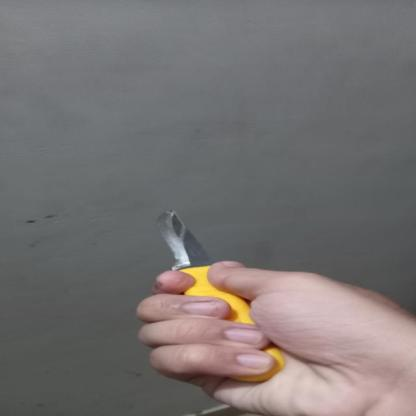Knife: (141, 202, 287, 379)
